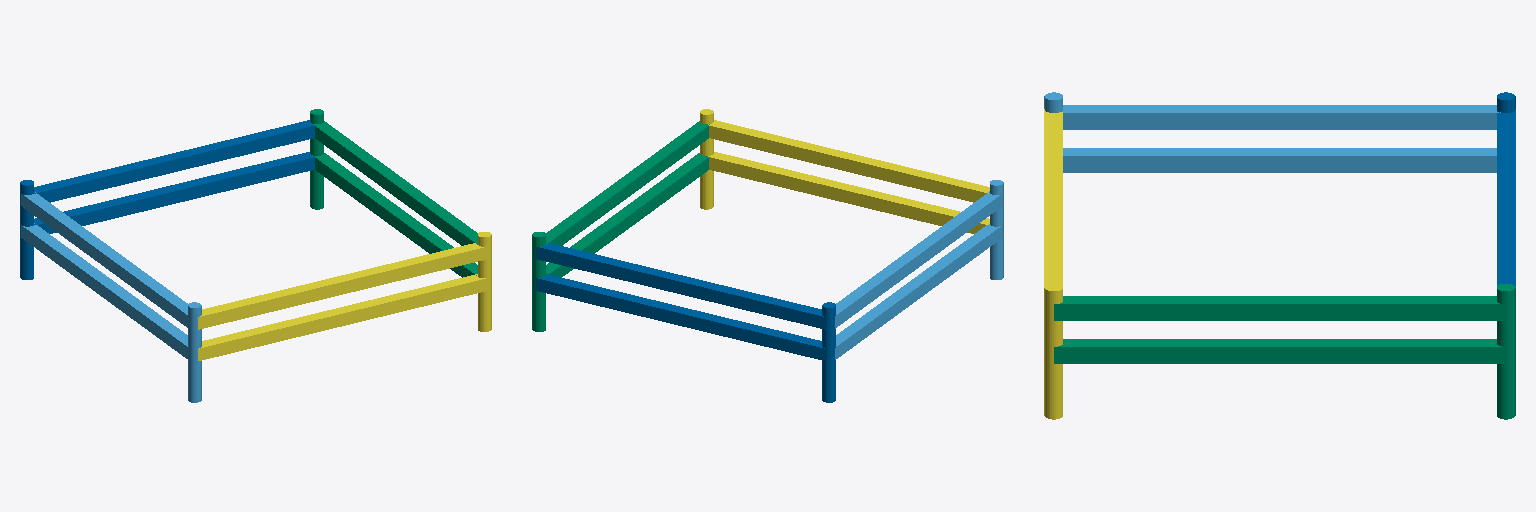
URDF robot description (cube):
<?xml version="1.0" ?>
<robot name="cube">
    <link name="base">
        <contact>
            <lateral_friction value="1.0"/>
            <rolling_friction value="0.0"/>
            <contact_cfm value="0.0"/>
            <contact_erp value="1.0"/>
        </contact>
        <inertial>
            <origin rpy="0 0 0" xyz="0 0 -0.11"/>
            <mass value="100.0"/>
            <inertia ixx="1" ixy="0" ixz="0" iyy="1" iyz="0" izz="1"/>
        </inertial>
        <!-- <visual>
            <origin rpy="0 0 0" xyz="0 0 -0.11"/>
            <geometry>
                <box size="4.8 4.8 0.05"/>
            </geometry>
        </visual> -->
        <!-- <collision>
            <origin rpy="0 0 0" xyz="0 0 -0.11"/>
            <geometry>
                <box size="4.8 4.8 0.05"/>
            </geometry>
        </collision> -->
    </link>
    <joint name="wall_S" type="fixed" >
        <parent link = "base" />
        <child link="wall_S" />
                <origin rpy = "0 0 0" xyz = "-2.4 0.0 0.25" />
    </joint>
    <link name="wall_S">
        <contact>
            <lateral_friction value="1.0"/>
            <rolling_friction value="0.0"/>
            <contact_cfm value="0.0"/>
            <contact_erp value="1.0"/>
        </contact>
        <inertial>
            <origin rpy="0 0 0" xyz="0 0 0.5"/>
            <mass value="10.0"/>
            <inertia ixx="1" ixy="0" ixz="0" iyy="1" iyz="0" izz="1"/>
        </inertial>
        <visual>
            <origin rpy="0 0 0" xyz="0 -2.4 0.25"/>
            <geometry>
                <cylinder length="1.5" radius="0.1"/>
            </geometry>
        </visual>
        <visual>
            <origin rpy="0 0 0" xyz="0 0 0.25"/>
            <geometry>
                <box size="0.2 4.8 0.2"/>
            </geometry>
        </visual>
        <visual>
            <origin rpy="0 0 0" xyz="0 0 0.75"/>
            <geometry>
                <box size="0.2 4.8 0.2"/>
            </geometry>
        </visual>
        <collision>
            <origin rpy="0 0 0" xyz="0 0 0.5"/>
            <geometry>
                <box size="0.2 4.8 1.0"/>
            </geometry>
        </collision>
    </link>
    <joint name="wall_N" type="fixed" >
        <parent link = "base" />
        <child link="wall_N" />
                <origin rpy = "0 0 0" xyz = "2.4 0.0 0.25" />
    </joint>
    <link name="wall_N">
        <contact>
            <lateral_friction value="1.0"/>
            <rolling_friction value="0.0"/>
            <contact_cfm value="0.0"/>
            <contact_erp value="1.0"/>
        </contact>
        <inertial>
            <origin rpy="0 0 0" xyz="0 0 0.5"/>
            <mass value="10.0"/>
            <inertia ixx="1" ixy="0" ixz="0" iyy="1" iyz="0" izz="1"/>
        </inertial>
        <visual>
            <origin rpy="0 0 0" xyz="0 2.4 0.25"/>
            <geometry>
                <cylinder length="1.5" radius="0.1"/>
            </geometry>
        </visual>
        <visual>
            <origin rpy="0 0 0" xyz="0 0 0.25"/>
            <geometry>
                <box size="0.2 4.8 0.2"/>
            </geometry>
        </visual>
        <visual>
            <origin rpy="0 0 0" xyz="0 0 0.75"/>
            <geometry>
                <box size="0.2 4.8 0.2"/>
            </geometry>
        </visual>
        <collision>
            <origin rpy="0 0 0" xyz="0 0 0.5"/>
            <geometry>
                <box size="0.2 4.8 1.0"/>
            </geometry>
        </collision>
    </link>
    <joint name="wall_W" type="fixed" >
        <parent link = "base" />
        <child link="wall_W" />
                <origin rpy = "0 0 0" xyz = "0.0 -2.4 0.25" />
    </joint>
    <link name="wall_W">
        <contact>
            <lateral_friction value="1.0"/>
            <rolling_friction value="0.0"/>
            <contact_cfm value="0.0"/>
            <contact_erp value="1.0"/>
        </contact>
        <inertial>
            <origin rpy="0 0 0" xyz="0 0 0.5"/>
            <mass value="10.0"/>
            <inertia ixx="1" ixy="0" ixz="0" iyy="1" iyz="0" izz="1"/>
        </inertial>
        <visual>
            <origin rpy="0 0 0" xyz="2.4 0 0.25"/>
            <geometry>
                <cylinder length="1.5" radius="0.1"/>
            </geometry>
        </visual>
        <visual>
            <origin rpy="0 0 0" xyz="0 0 0.25"/>
            <geometry>
                <box size="4.8 0.2 0.2"/>
            </geometry>
        </visual>
        <visual>
            <origin rpy="0 0 0" xyz="0 0 0.75"/>
            <geometry>
                <box size="4.8 0.2 0.2"/>
            </geometry>
        </visual>
        <collision>
            <origin rpy="0 0 0" xyz="0 0 0.5"/>
            <geometry>
                <box size="4.8 0.2 1.0"/>
            </geometry>
        </collision>
    </link>
    <joint name="wall_E" type="fixed" >
        <parent link = "base" />
        <child link="wall_E" />
                <origin rpy = "0 0 0" xyz = "0.0 2.4 0.25" />
    </joint>
    <link name="wall_E">
        <contact>
            <lateral_friction value="1.0"/>
            <rolling_friction value="0.0"/>
            <contact_cfm value="0.0"/>
            <contact_erp value="1.0"/>
        </contact>
        <inertial>
            <origin rpy="0 0 0" xyz="0 0 0.5"/>
            <mass value="10.0"/>
            <inertia ixx="1" ixy="0" ixz="0" iyy="1" iyz="0" izz="1"/>
        </inertial>
        <visual>
            <origin rpy="0 0 0" xyz="-2.4 0 0.25"/>
            <geometry>
                <cylinder length="1.5" radius="0.1"/>
            </geometry>
        </visual>
        <visual>
            <origin rpy="0 0 0" xyz="0 0 0.25"/>
            <geometry>
                <box size="4.8 0.2 0.2"/>
            </geometry>
        </visual>
        <visual>
            <origin rpy="0 0 0" xyz="0 0 0.75"/>
            <geometry>
                <box size="4.8 0.2 0.2"/>
            </geometry>
        </visual>
        <collision>
            <origin rpy="0 0 0" xyz="0 0 0.5"/>
            <geometry>
                <box size="4.8 0.2 1.0"/>
            </geometry>
        </collision>
    </link>
</robot>

--- What the picture shows (computed from the rendered views, not written in the file) ---
The picture shows the robot from 3 angles, left to right: view 1: azimuth 30°, elevation 25°; view 2: azimuth 150°, elevation 25°; view 3: azimuth 270°, elevation 25°; orthographic projection.
Model cube with 5 links and 4 joints (4 fixed), rooted at base, posed all joints at 0.
Links seen in each view (by area): view 1: wall_W, wall_E, wall_S, wall_N; view 2: wall_E, wall_W, wall_S, wall_N; view 3: wall_N, wall_S, wall_W, wall_E.
Link boxes in pixels (x1,y1,x2,y2): wall_W: (198, 232, 491, 360); wall_E: (20, 120, 315, 279); wall_S: (21, 192, 201, 402); wall_N: (310, 109, 477, 277); wall_E: (536, 243, 835, 402); wall_W: (700, 109, 989, 233); wall_S: (835, 180, 1003, 359); wall_N: (532, 121, 709, 331); wall_N: (1054, 284, 1515, 419); wall_S: (1044, 92, 1500, 172); wall_W: (1044, 109, 1062, 419); wall_E: (1497, 92, 1515, 286).
Size in the robot's own frame: 5 by 5 by 1.5 metres.
Geometry: primitives only (box / cylinder / sphere), no mesh files.